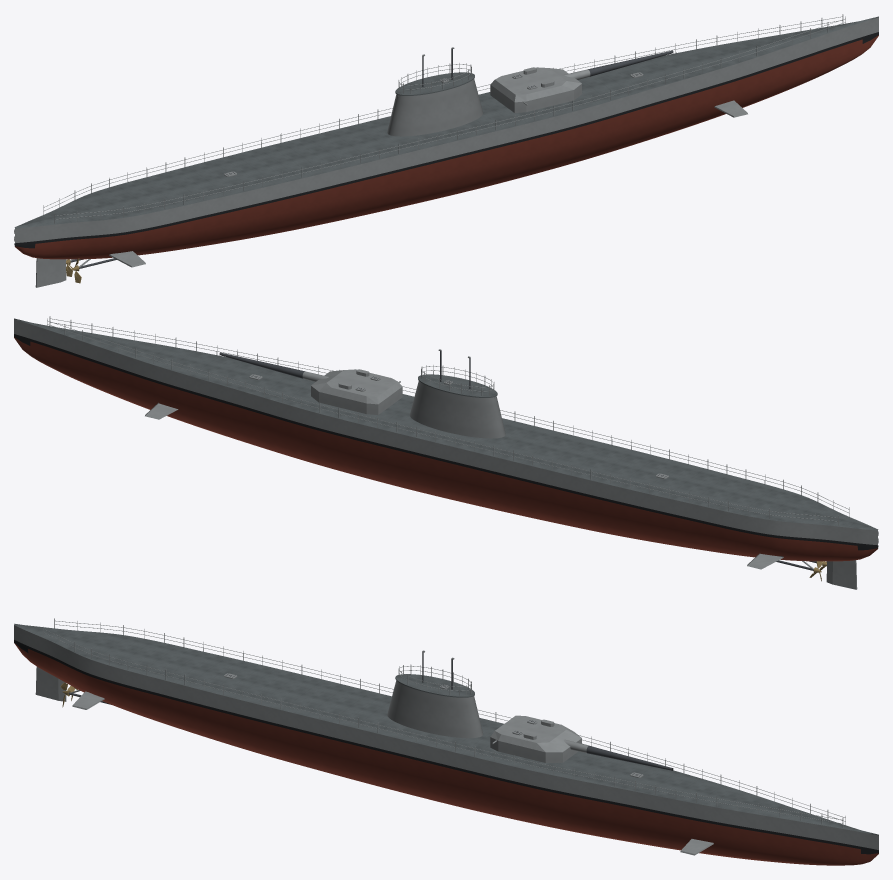
File: m_class_ss_rn.glb
3 renders of one model, top to bottom at view 1: azimuth 30°, elevation 25°; view 2: azimuth 150°, elevation 25°; view 3: azimuth 330°, elevation 25°, orthographic.
Parts seen in each view (by area): view 1: M class (submarine monitor); view 2: M class (submarine monitor); view 3: M class (submarine monitor).
Boxes of the visible parts, x1,y1,x2,y2 form: M class (submarine monitor): (14,14,878,287); M class (submarine monitor): (14,316,878,589); M class (submarine monitor): (14,618,878,865).
Size of the model in its own units: 90.14 by 14.2 by 10.77.
6 materials, 6 textured.
